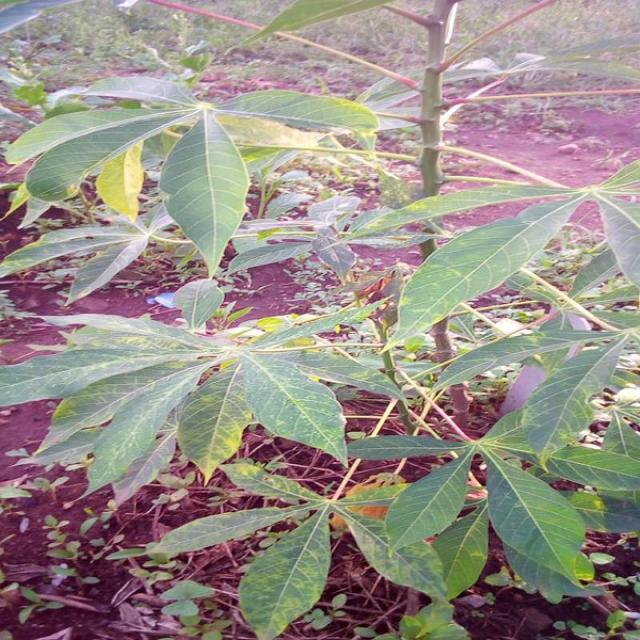cassava leaf: (393, 191, 582, 348), (482, 444, 596, 602), (158, 107, 250, 278), (240, 348, 348, 468)
